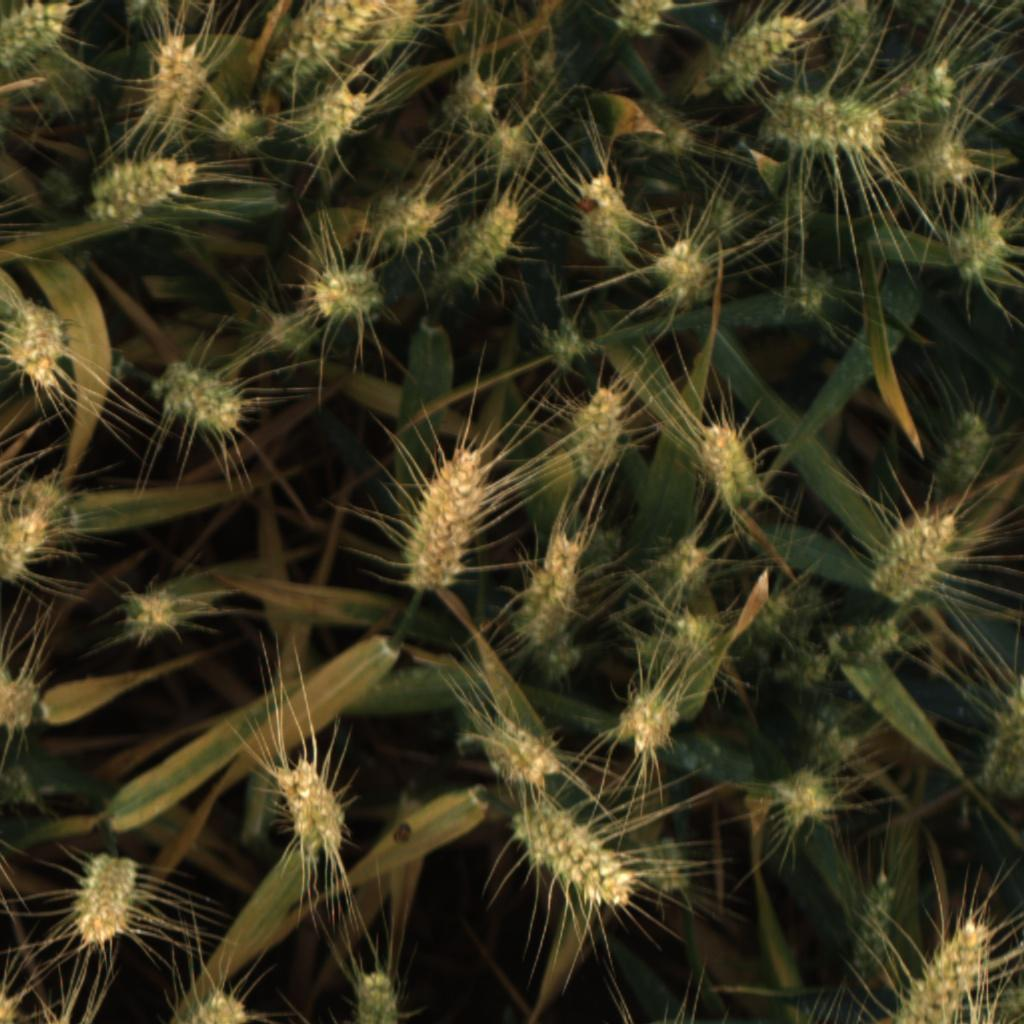0-0: (261, 0, 397, 102), (509, 801, 638, 908), (404, 443, 490, 591), (748, 86, 892, 160), (893, 919, 991, 1024), (708, 7, 808, 104), (504, 524, 586, 640), (868, 511, 963, 603), (92, 154, 202, 226), (273, 757, 351, 856), (68, 852, 144, 946), (155, 361, 246, 438), (448, 197, 525, 286), (564, 384, 632, 483), (976, 669, 1024, 800), (0, 300, 66, 394), (145, 28, 214, 117), (848, 870, 902, 982), (929, 408, 996, 497), (886, 56, 962, 134), (696, 424, 766, 507), (482, 721, 560, 791), (0, 2, 77, 70), (650, 230, 713, 313), (292, 91, 370, 158), (366, 184, 444, 251), (577, 168, 632, 263), (768, 759, 836, 832), (310, 261, 386, 325), (522, 631, 594, 698), (949, 211, 1014, 285), (616, 686, 681, 759), (908, 128, 978, 195), (827, 612, 901, 675), (629, 96, 697, 158), (531, 312, 597, 371), (441, 67, 503, 129), (636, 834, 694, 899), (32, 62, 96, 120), (0, 508, 50, 581), (366, 0, 426, 60), (657, 533, 712, 598), (22, 470, 74, 537), (117, 587, 176, 646), (782, 261, 838, 323), (608, 0, 685, 45), (805, 715, 869, 769), (774, 176, 824, 245), (258, 304, 323, 356), (767, 579, 827, 635), (480, 120, 539, 176), (167, 986, 253, 1024), (347, 969, 405, 1024), (825, 2, 874, 66), (782, 640, 839, 694), (0, 672, 48, 734), (667, 608, 722, 662), (745, 583, 790, 644), (213, 106, 266, 156), (582, 523, 627, 575), (528, 41, 565, 104), (630, 629, 672, 681), (706, 196, 742, 241), (120, 0, 172, 25)
